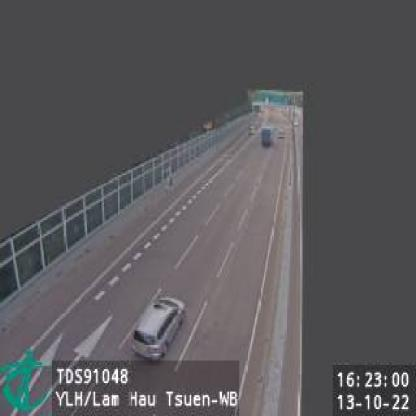Car: (132, 294, 187, 364)
Truck: (259, 124, 272, 148)
